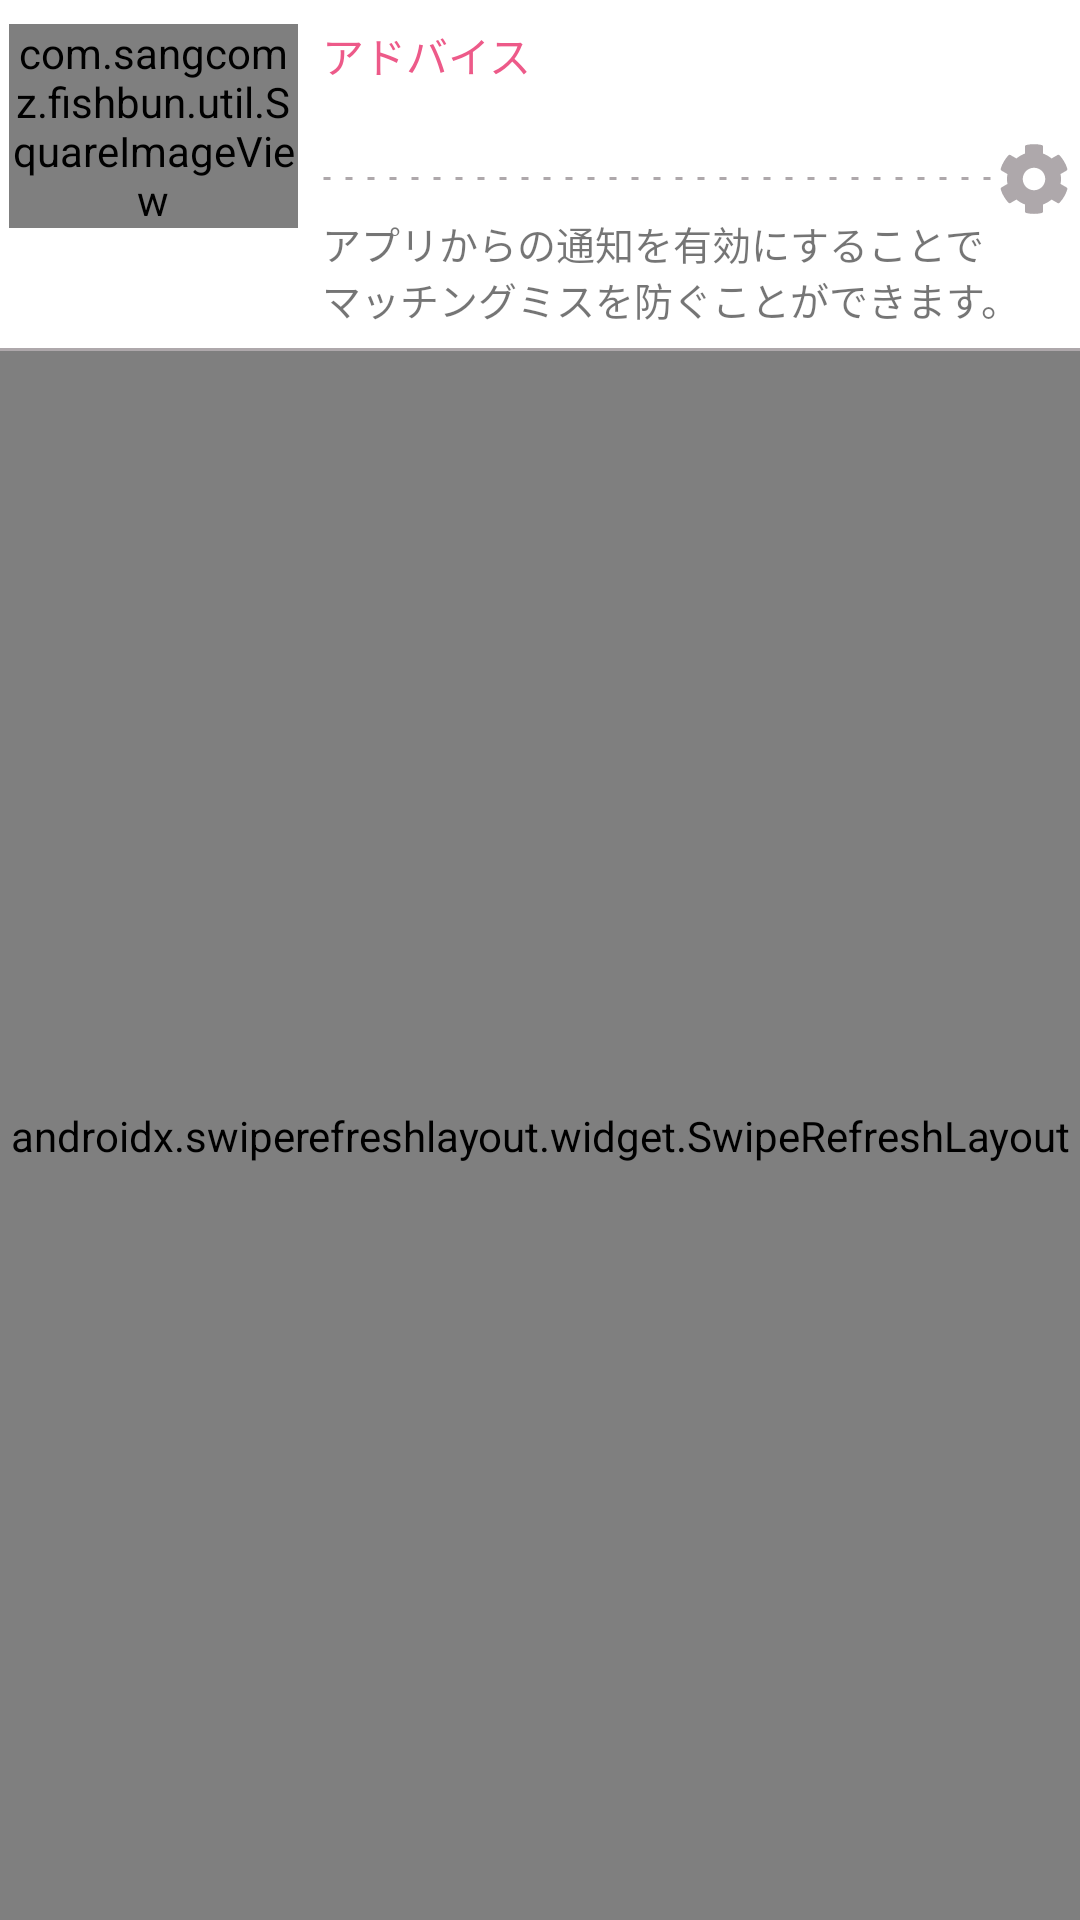

Where icons sit on this 1080x1920 app screen, as (x1, y1, x2, y2):
setting: (1001, 144, 1068, 214)
